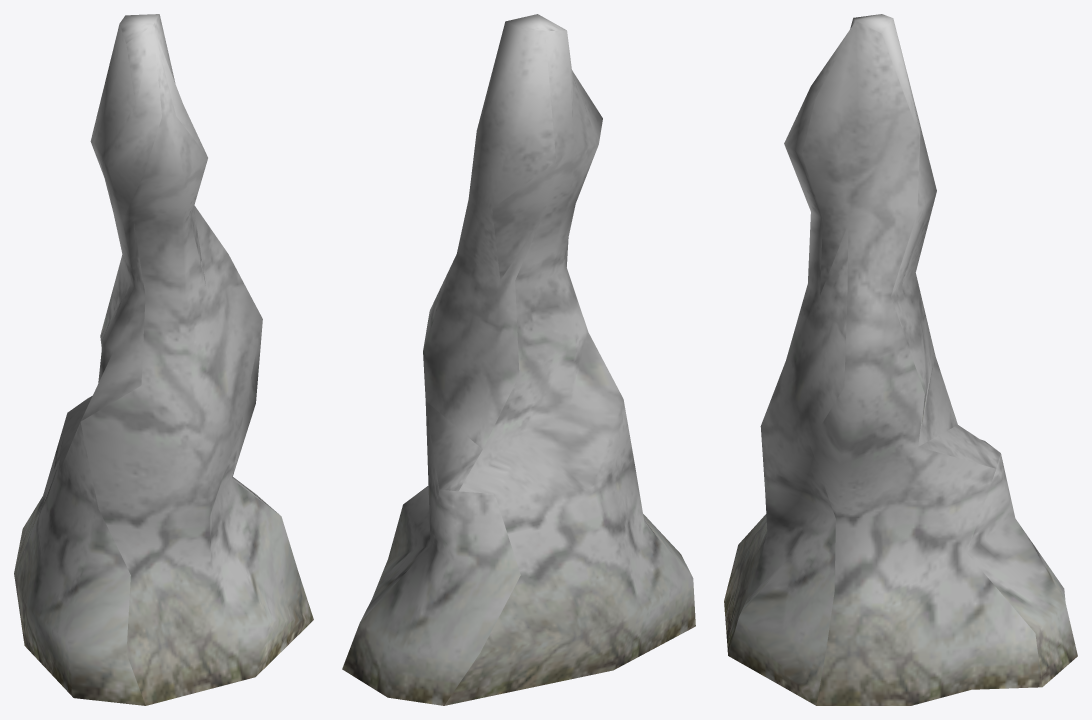
The model's file is general_obj_bigstone02.fbx.
The picture shows the model from 3 angles, left to right: view 1: azimuth 30°, elevation 25°; view 2: azimuth 150°, elevation 25°; view 3: azimuth 270°, elevation 25°; orthographic projection.
Parts seen in each view (by area): view 1: Sphere01; view 2: Sphere01; view 3: Sphere01.
Boxes of the visible parts, bbox=[...] form: Sphere01: bbox=[14, 14, 313, 705]; Sphere01: bbox=[342, 14, 695, 705]; Sphere01: bbox=[724, 14, 1077, 705].
Bounding box in the file's own units: 19.08 × 42.85 × 22.32.
